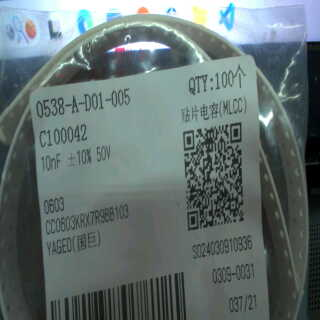10nF: (38, 150, 66, 175)
